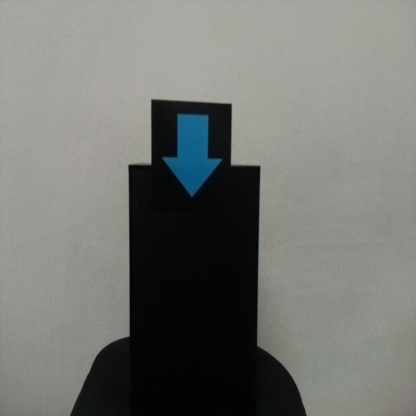id_2: (151, 101, 232, 214)
